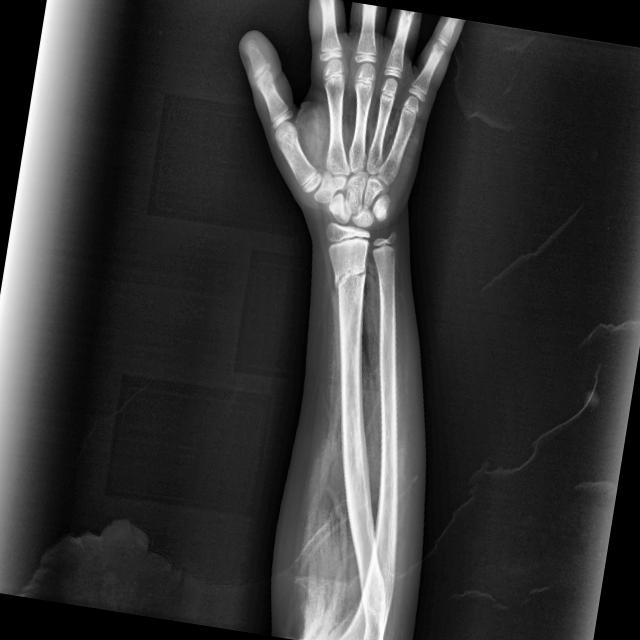Fracture: (329, 258, 370, 296)
